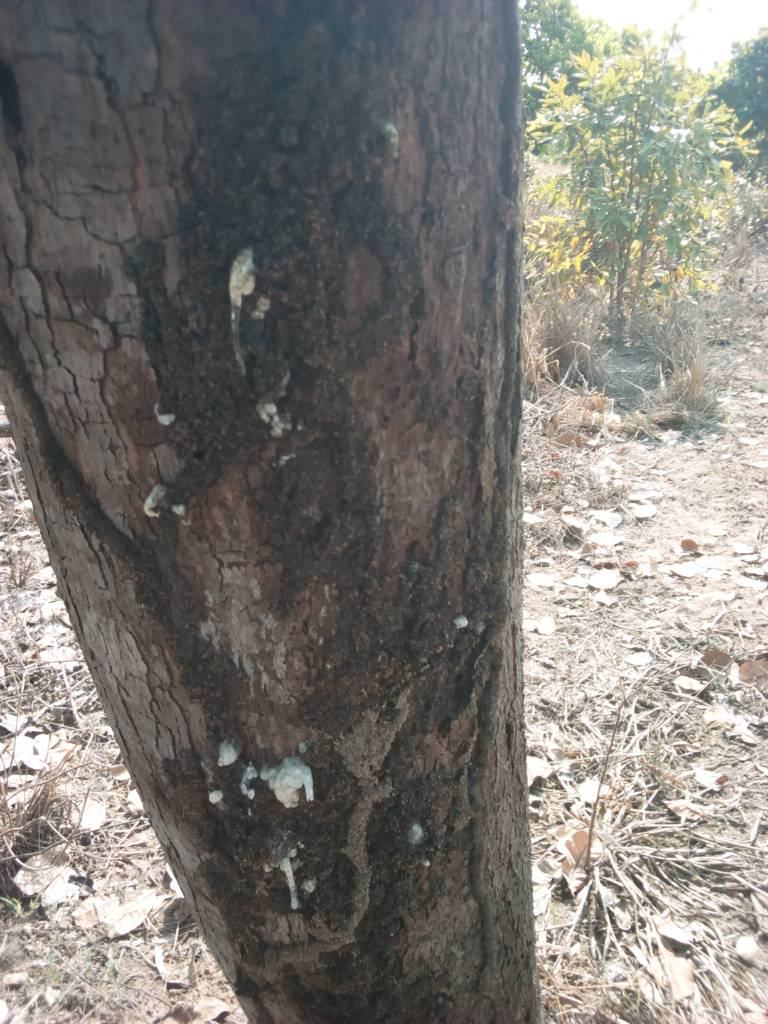Termites: (193, 66, 508, 1017)
